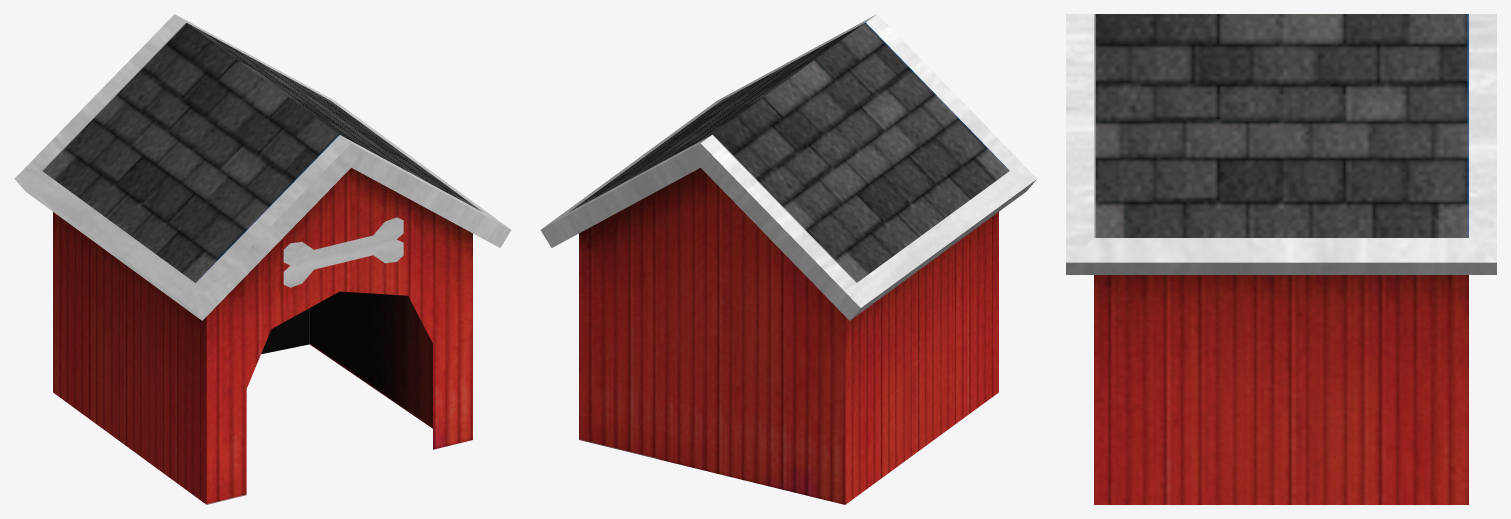
The model's file is DogHouse.fbx.
3 renders of one model, left to right at view 1: azimuth 30°, elevation 25°; view 2: azimuth 150°, elevation 25°; view 3: azimuth 270°, elevation 25°, orthographic. The views are drawn at different scales.
Visible parts, largest first — view 1: DogHouse; view 2: DogHouse; view 3: DogHouse.
Boxes of the visible parts, x1,y1,x2,y2 form: DogHouse: (14,14,511,504); DogHouse: (540,14,1037,504); DogHouse: (1066,14,1496,504).
Bounding box in the file's own units: 385 × 388 × 368.
